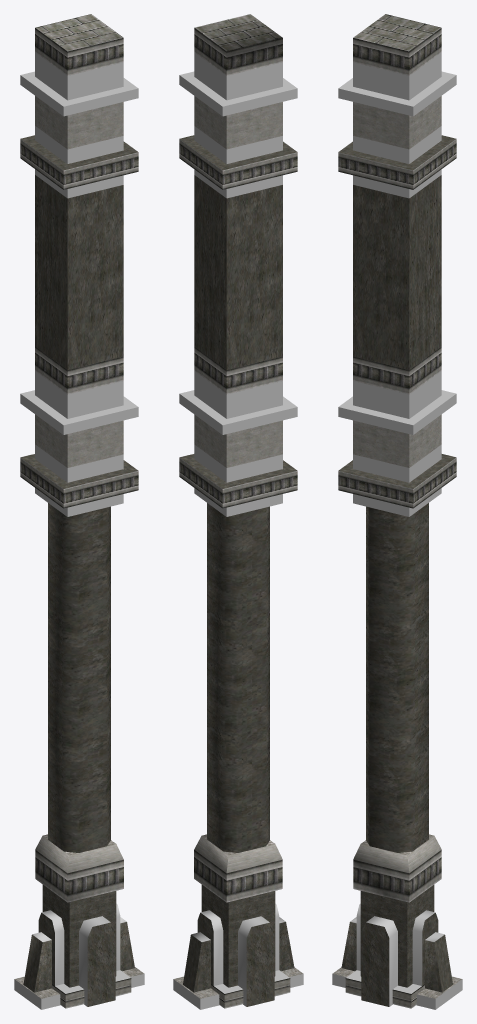
Rendered from L_MOUNTAIN_TALL_COLUMN01.obj.
3 views of the same model, side by side, from view 1: azimuth 30°, elevation 25°; view 2: azimuth 210°, elevation 25°; view 3: azimuth 330°, elevation 25° (orthographic).
Visible parts, largest first — view 1: n_Tall_column01; view 2: n_Tall_column01; view 3: n_Tall_column01.
Boxes of the visible parts, x1,y1,x2,y2 form: n_Tall_column01: [14, 14, 144, 1009]; n_Tall_column01: [173, 14, 303, 1009]; n_Tall_column01: [332, 14, 462, 1009].
Size of the model in its own units: 220 by 1948 by 164.
